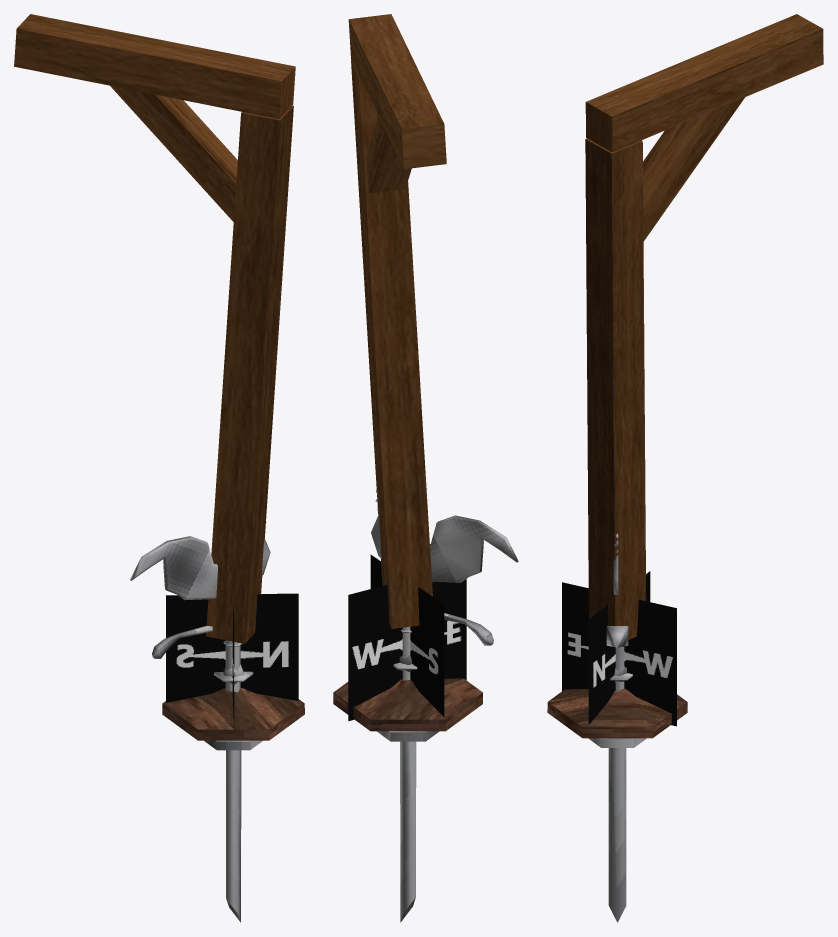
Rendered from ChimesPack.fbx.
3 views of the same model, side by side, from view 1: azimuth 30°, elevation 25°; view 2: azimuth 150°, elevation 25°; view 3: azimuth 270°, elevation 25° (orthographic). The views are drawn at different scales.
Parts seen in each view (by area): view 1: Cube.008, NSEW, ChimeHolder, RotationPivot, Chime.005, Chime; view 2: Cube.008, NSEW, ChimeHolder, RotationPivot, Chime.005, Chime.002, ChimeHolder.001, Chime, Chime.003; view 3: Cube.008, NSEW, ChimeHolder, Chime.005, RotationPivot, Chime.004, Chime.
Boxes of the visible parts, box(x1,y1,x2,y2) form: Cube.008: box(14, 14, 295, 643); NSEW: box(166, 593, 298, 725); ChimeHolder: box(162, 688, 304, 740); RotationPivot: box(130, 522, 270, 658); Chime.005: box(225, 640, 241, 922); Chime: box(226, 640, 239, 810); Cube.008: box(348, 14, 446, 628); NSEW: box(348, 555, 466, 721); ChimeHolder: box(333, 678, 482, 731); RotationPivot: box(371, 490, 518, 645); Chime.005: box(400, 627, 416, 922); Chime.002: box(402, 643, 412, 843); ChimeHolder.001: box(377, 731, 439, 741); Chime: box(402, 627, 410, 801); Chime.003: box(401, 634, 413, 863); Cube.008: box(585, 14, 823, 639); NSEW: box(562, 571, 676, 726); ChimeHolder: box(547, 688, 687, 738); Chime.005: box(608, 647, 626, 922); RotationPivot: box(606, 533, 628, 647); Chime.004: box(608, 652, 626, 896); Chime: box(608, 646, 626, 809).
Size of the model in its own units: 87.78 by 384 by 114.
